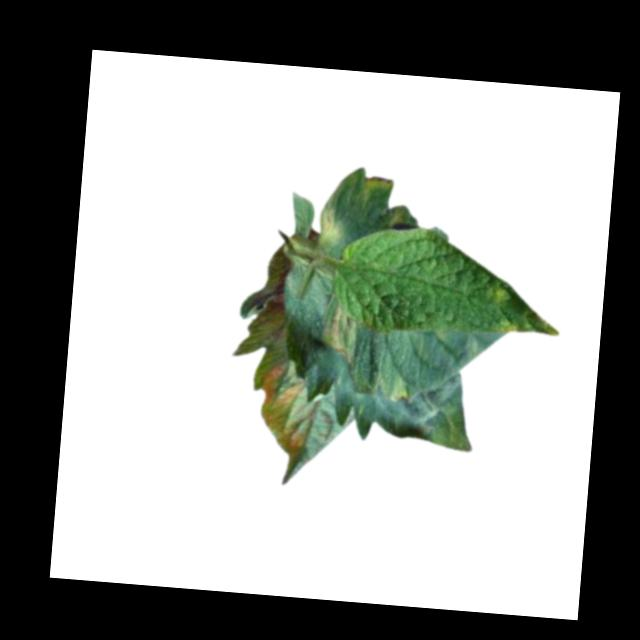Leaf_Mold: (256, 359, 318, 459), (324, 304, 364, 364), (316, 209, 351, 253), (361, 173, 396, 206), (388, 380, 415, 407), (494, 318, 517, 335)
